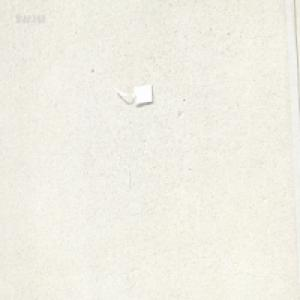LuggageTag: (113, 82, 153, 107)
